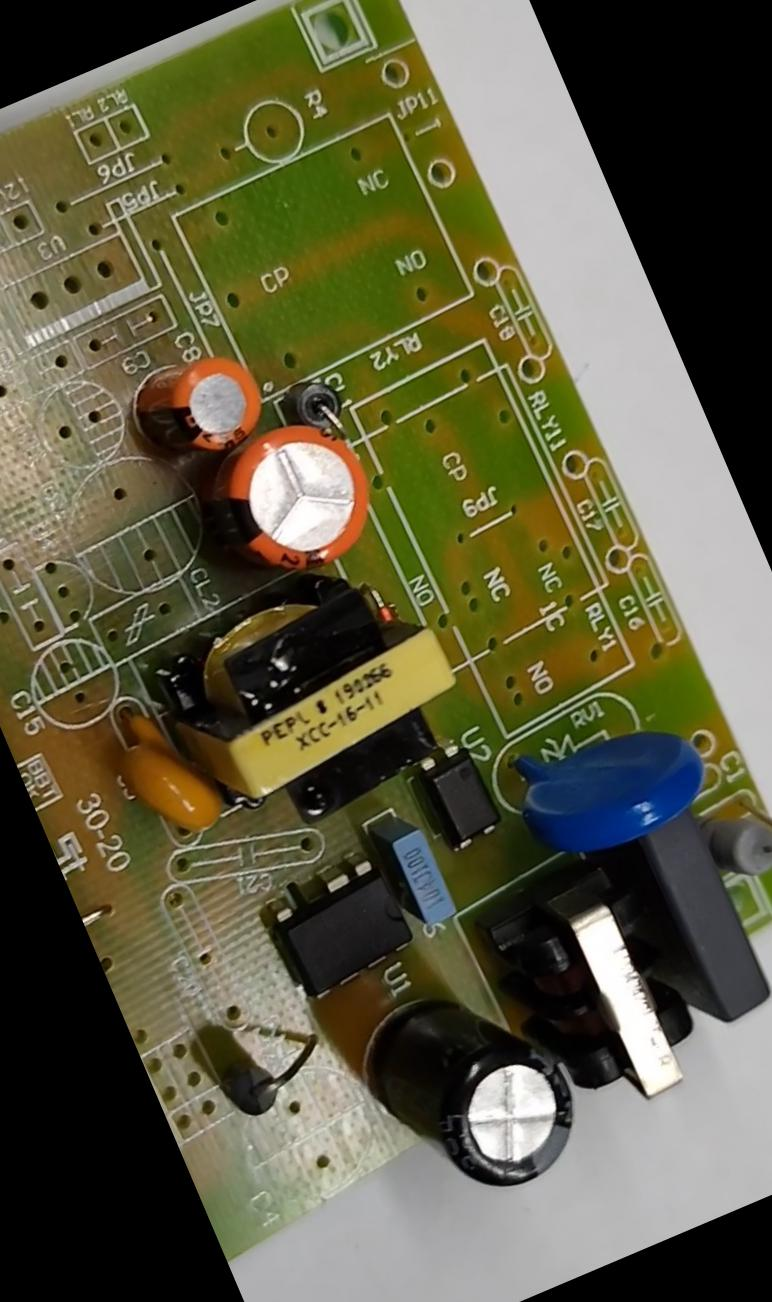Cap1: (194, 408, 386, 592)
Cap2: (125, 337, 272, 472)
Cap3: (353, 968, 596, 1222)
MOSFET: (272, 855, 420, 996)
Mov: (514, 709, 716, 871)
Resistor: (707, 794, 771, 881)
Transformer: (133, 546, 478, 846), (507, 882, 716, 1119)
